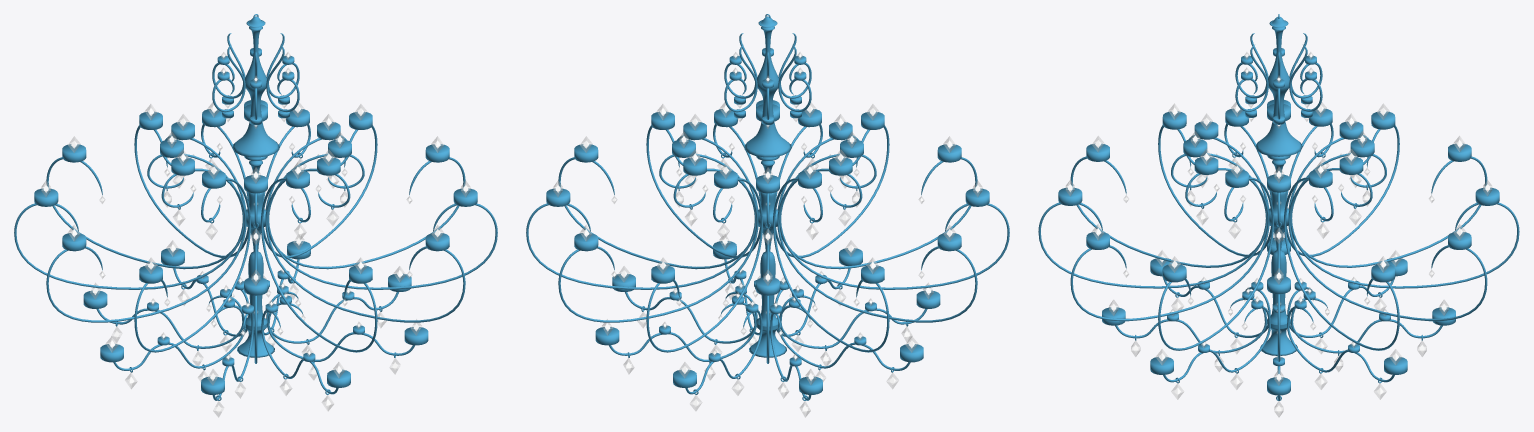
File: chandelier2.glb
3 views of the same model, side by side, from view 1: azimuth 30°, elevation 25°; view 2: azimuth 150°, elevation 25°; view 3: azimuth 270°, elevation 25° (orthographic).
Parts seen in each view (by area): view 1: BezierCurve.001_4, Cylinder_5, Cylinder.001_8, BezierCurve.003_3, BezierCurve.002_2, Cylinder.006_25, BezierCurve_1, Cube.001_7, Cube_6, Cube.004_15, Cube.009_24, Cube.006_19 (+5 smaller); view 2: BezierCurve.001_4, Cylinder_5, Cylinder.001_8, BezierCurve.003_3, BezierCurve.002_2, Cylinder.006_25, BezierCurve_1, Cube.001_7, Cube_6, Cube.004_15, Cube.009_24, Cube.006_19 (+5 smaller); view 3: BezierCurve.001_4, Cylinder_5, Cylinder.001_8, BezierCurve.003_3, BezierCurve.002_2, Cylinder.006_25, BezierCurve_1, Cube.001_7, Cube_6, Cube.004_15, Cube.006_19, Cube.009_24 (+5 smaller).
Part boxes in pixels (left/top/right/bottom): BezierCurve.001_4: left=14, top=124, right=497, bottom=363; Cylinder_5: left=160, top=104, right=351, bottom=193; Cylinder.001_8: left=34, top=100, right=477, bottom=295; BezierCurve.003_3: left=232, top=16, right=279, bottom=357; BezierCurve.002_2: left=96, top=259, right=414, bottom=400; Cylinder.006_25: left=83, top=241, right=428, bottom=394; BezierCurve_1: left=212, top=33, right=299, bottom=119; Cube.001_7: left=41, top=104, right=470, bottom=285; Cube_6: left=167, top=102, right=344, bottom=183; Cube.004_15: left=162, top=158, right=349, bottom=244; Cube.009_24: left=90, top=234, right=421, bottom=384; Cube.006_19: left=111, top=283, right=400, bottom=417; BezierCurve.001_4: left=526, top=124, right=1009, bottom=363; Cylinder_5: left=672, top=104, right=863, bottom=193; Cylinder.001_8: left=546, top=100, right=989, bottom=295; BezierCurve.003_3: left=744, top=16, right=791, bottom=357; BezierCurve.002_2: left=609, top=259, right=927, bottom=400; Cylinder.006_25: left=595, top=241, right=940, bottom=394; BezierCurve_1: left=724, top=33, right=811, bottom=119; Cube.001_7: left=553, top=104, right=982, bottom=285; Cube_6: left=679, top=102, right=856, bottom=183; Cube.004_15: left=674, top=158, right=861, bottom=244; Cube.009_24: left=602, top=234, right=933, bottom=384; Cube.006_19: left=623, top=283, right=912, bottom=417; BezierCurve.001_4: left=1038, top=123, right=1519, bottom=361; Cylinder_5: left=1183, top=104, right=1374, bottom=192; Cylinder.001_8: left=1058, top=100, right=1499, bottom=294; BezierCurve.003_3: left=1255, top=17, right=1302, bottom=355; BezierCurve.002_2: left=1115, top=276, right=1442, bottom=400; Cylinder.006_25: left=1102, top=237, right=1455, bottom=395; BezierCurve_1: left=1235, top=33, right=1322, bottom=119; Cube.001_7: left=1066, top=103, right=1491, bottom=283; Cube_6: left=1191, top=102, right=1366, bottom=182; Cube.004_15: left=1186, top=158, right=1371, bottom=243; Cube.006_19: left=1131, top=298, right=1426, bottom=416; Cube.009_24: left=1109, top=237, right=1448, bottom=385.
Size of the model in its own units: 20.15 by 16.56 by 20.15.
